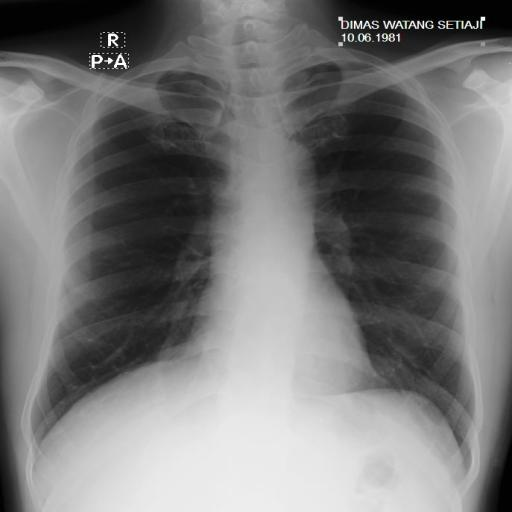normal: (21, 24, 486, 466)
